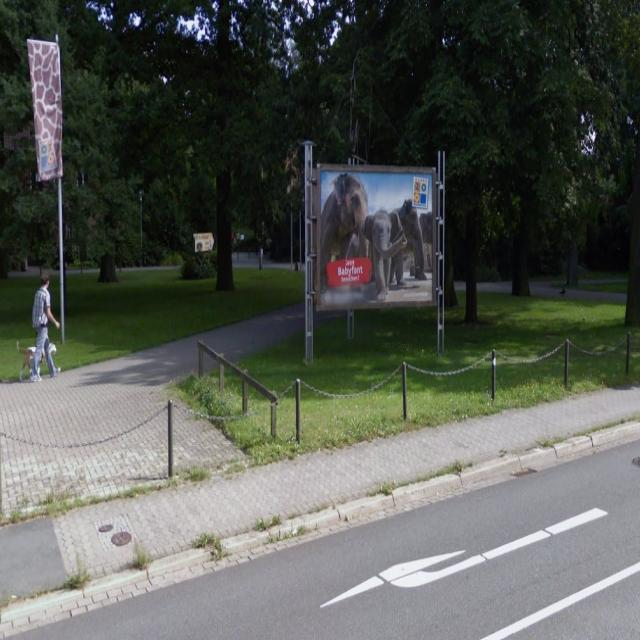Werbetafel frei: (304, 141, 448, 320)
